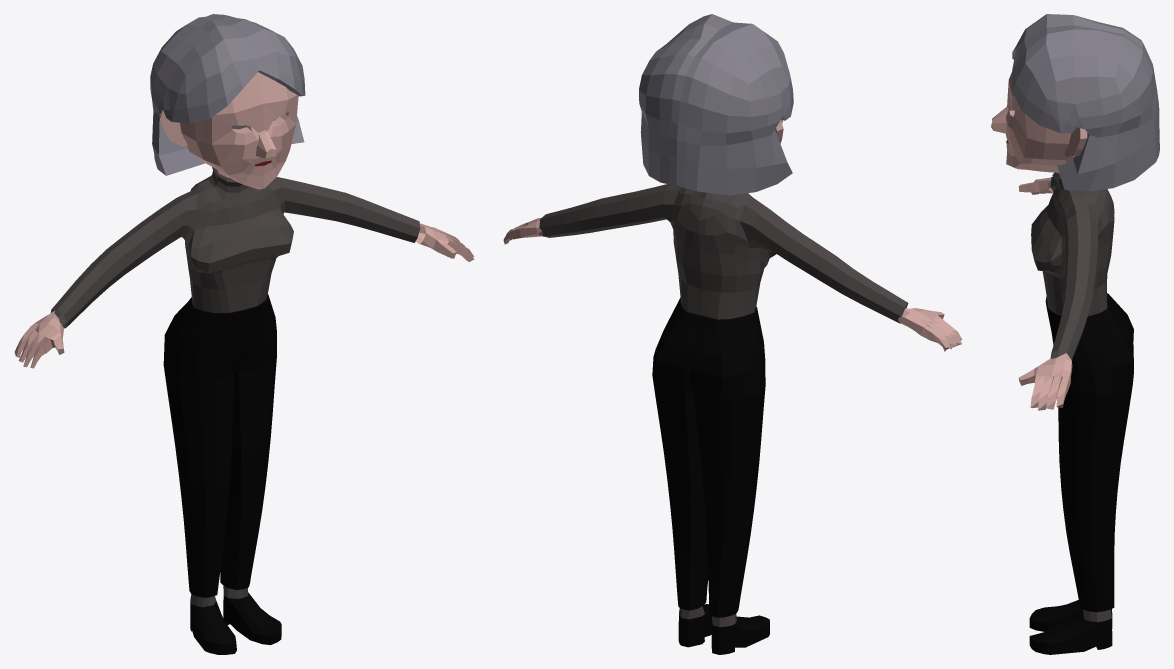
File: Teacher work in progress.fbx
The picture shows the model from 3 angles, left to right: view 1: azimuth 30°, elevation 25°; view 2: azimuth 150°, elevation 25°; view 3: azimuth 270°, elevation 25°; orthographic projection.
Visible parts, largest first — view 1: Body teacher, Hair CLara.002; view 2: Body teacher, Hair CLara.002; view 3: Body teacher, Hair CLara.002, Ears.001, Nose.001.
Part boxes in pixels (x1=…): Body teacher: x1=14, y1=72, x2=474, y2=654; Hair CLara.002: x1=150, y1=14, x2=305, y2=175; Body teacher: x1=503, y1=120, x2=962, y2=654; Hair CLara.002: x1=639, y1=14, x2=793, y2=195; Body teacher: x1=1006, y1=71, x2=1133, y2=654; Hair CLara.002: x1=1012, y1=14, x2=1159, y2=191; Ears.001: x1=1064, y1=127, x2=1087, y2=157; Nose.001: x1=991, y1=106, x2=1008, y2=133.
Bounding box in the file's own units: 166 × 214 × 53.45.
